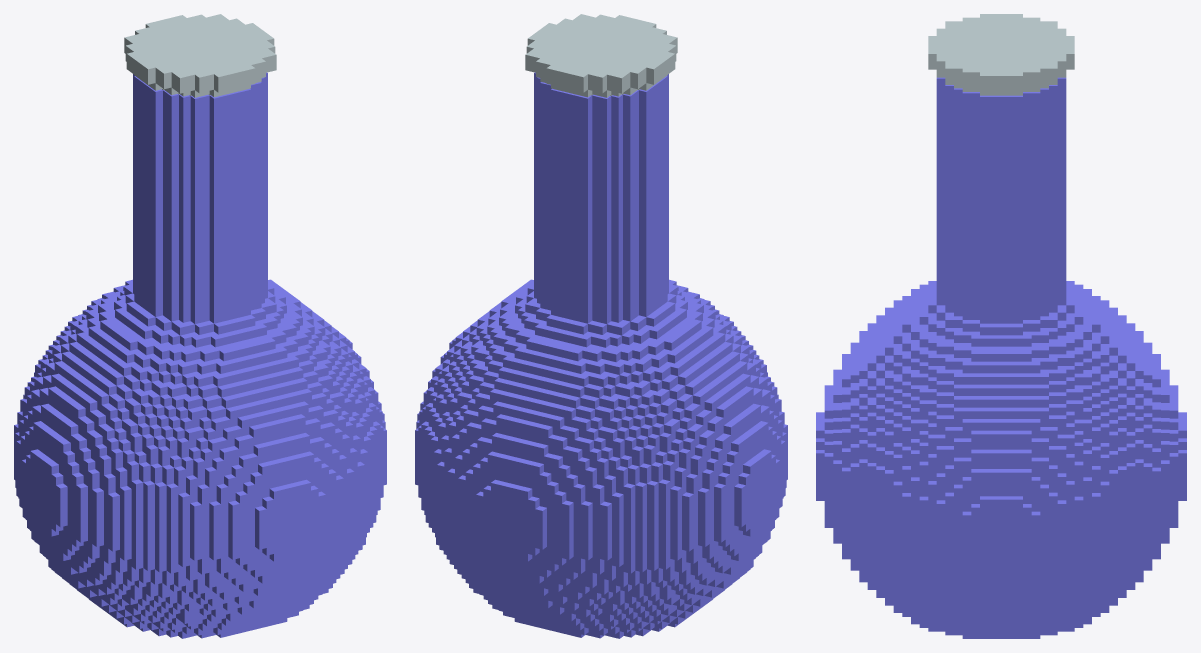
The model's file is Flask6-2-1.fbx.
3 renders of one model, left to right at view 1: azimuth 30°, elevation 25°; view 2: azimuth 150°, elevation 25°; view 3: azimuth 270°, elevation 25°, orthographic.
Parts seen in each view (by area): view 1: Flask6-2-1.001, Flask6-2-1; view 2: Flask6-2-1.001, Flask6-2-1; view 3: Flask6-2-1.001, Flask6-2-1.
Boxes of the visible parts, x1,y1,x2,y2 form: Flask6-2-1.001: [14, 72, 386, 638]; Flask6-2-1: [124, 14, 276, 97]; Flask6-2-1.001: [415, 72, 787, 638]; Flask6-2-1: [525, 14, 677, 97]; Flask6-2-1.001: [816, 77, 1186, 638]; Flask6-2-1: [928, 14, 1074, 95].
Bounding box in the file's own units: 4.3 × 7.02 × 4.3.
